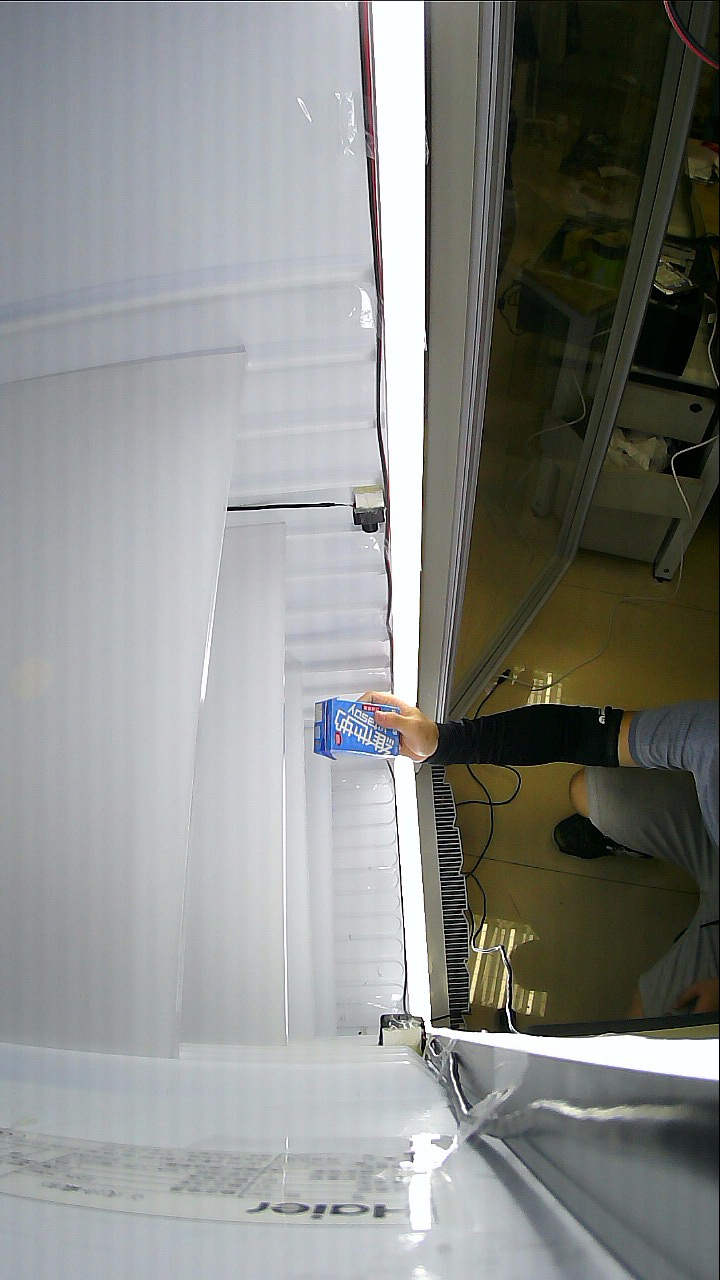VitaSoyOriginal: (317, 697, 484, 768)
